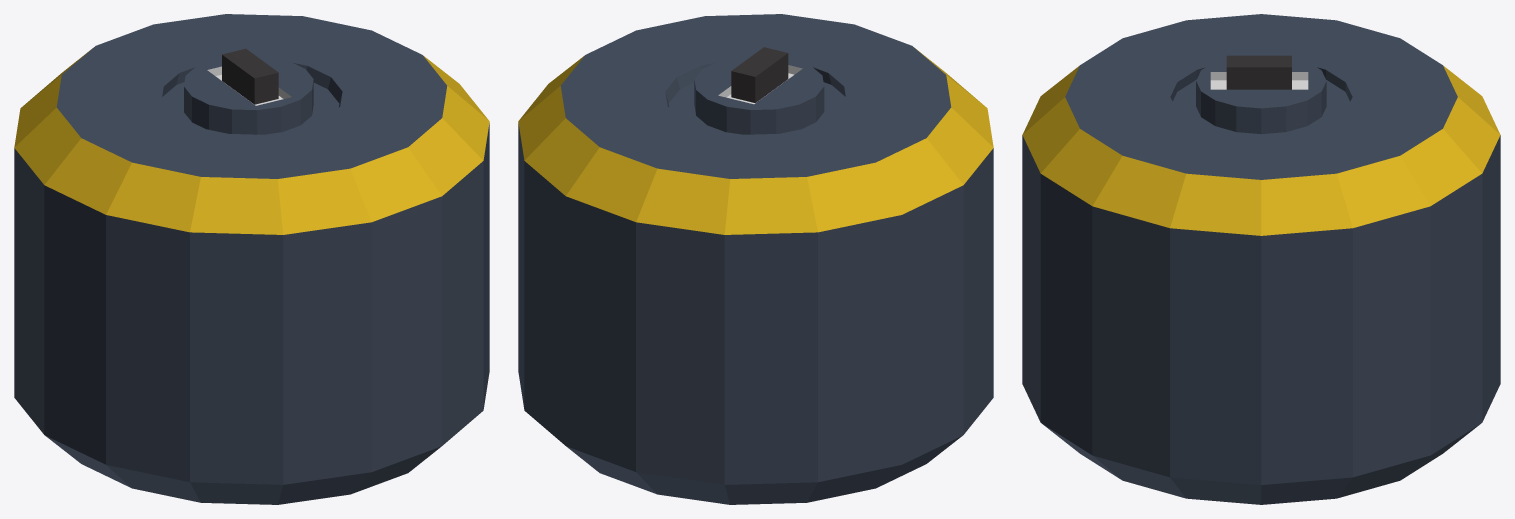
The model's file is AmmoPack.fbx.
3 renders of one model, left to right at view 1: azimuth 30°, elevation 25°; view 2: azimuth 150°, elevation 25°; view 3: azimuth 270°, elevation 25°, orthographic.
Parts seen in each view (by area): view 1: Cylinder; view 2: Cylinder; view 3: Cylinder.
Part boxes in pixels (x1,y1,x2,y2): Cylinder: (14,14,489,504); Cylinder: (518,14,993,504); Cylinder: (1022,14,1500,504).
Size of the model in its own units: 200 by 166 by 200.
